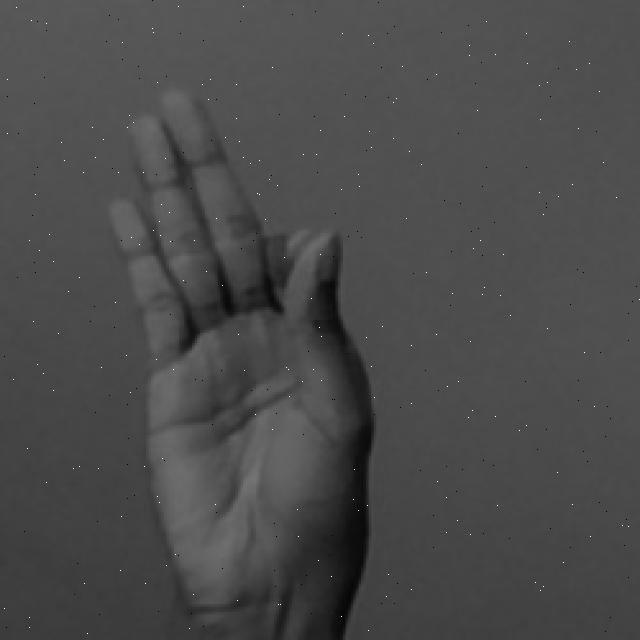F: (107, 88, 379, 640)
